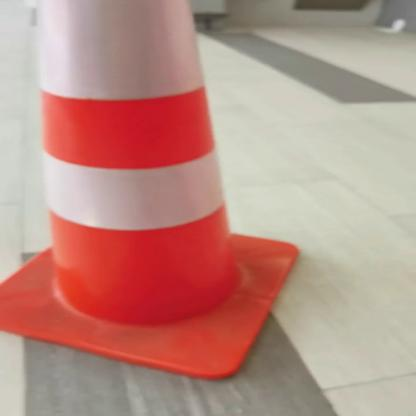cone: (2, 1, 315, 389)
